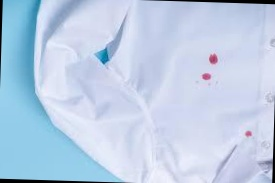blood: (209, 52, 218, 66), (245, 129, 253, 139), (202, 73, 211, 81)
